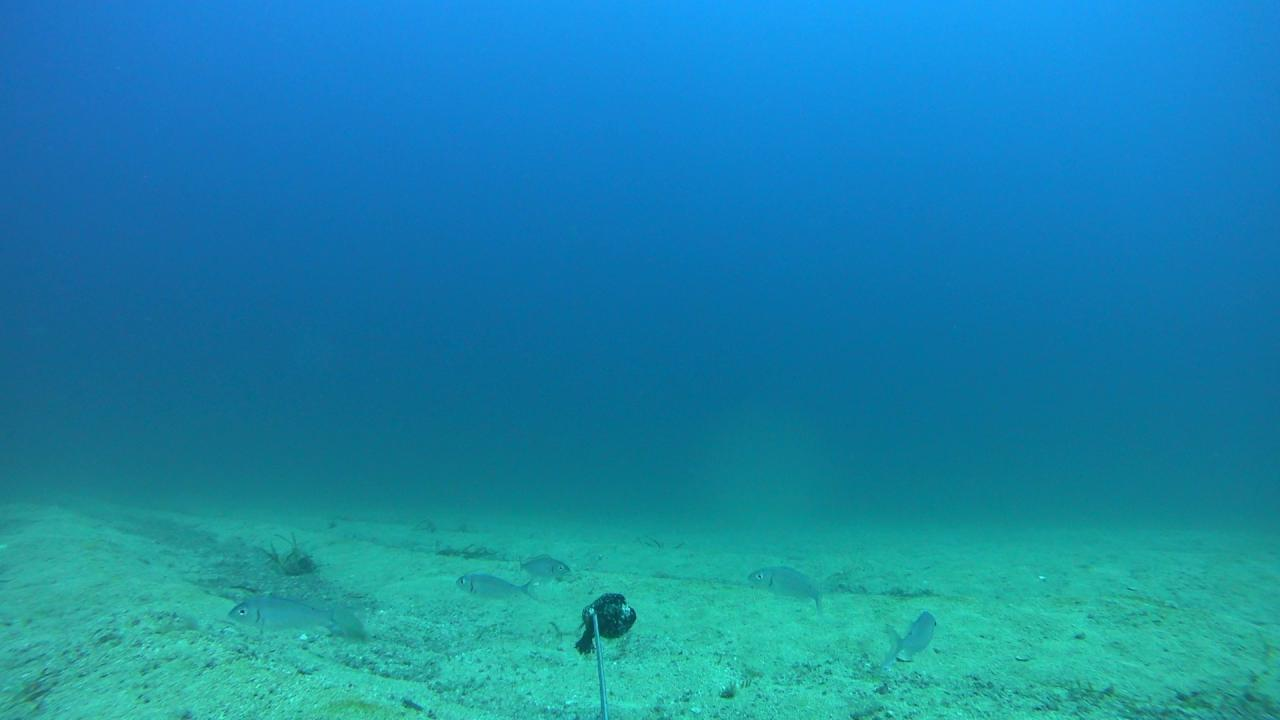pagellus: (228, 594, 337, 634), (742, 564, 822, 607), (883, 610, 937, 661), (456, 573, 534, 599), (515, 551, 570, 578)
